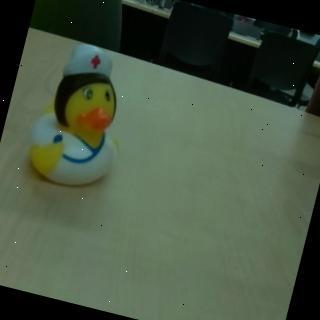duck_specialty: (20, 34, 144, 198)
